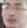without_mask: (1, 1, 27, 28)
